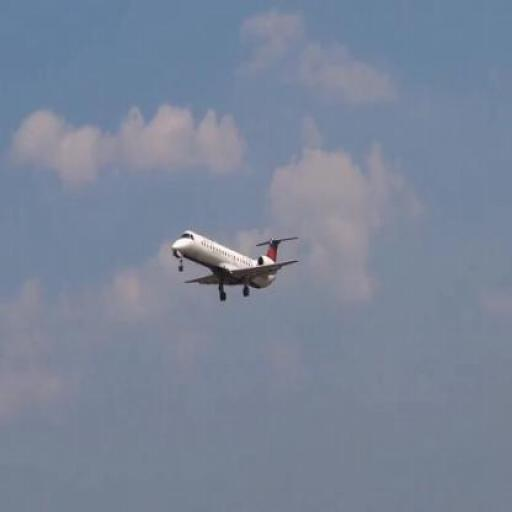aircraft: (170, 230, 300, 301)
